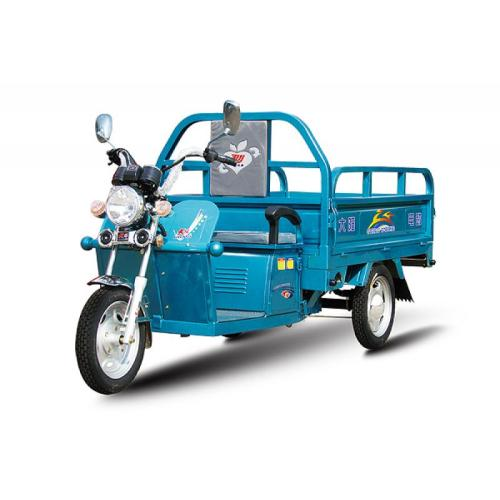tricycle: (71, 66, 446, 398)
